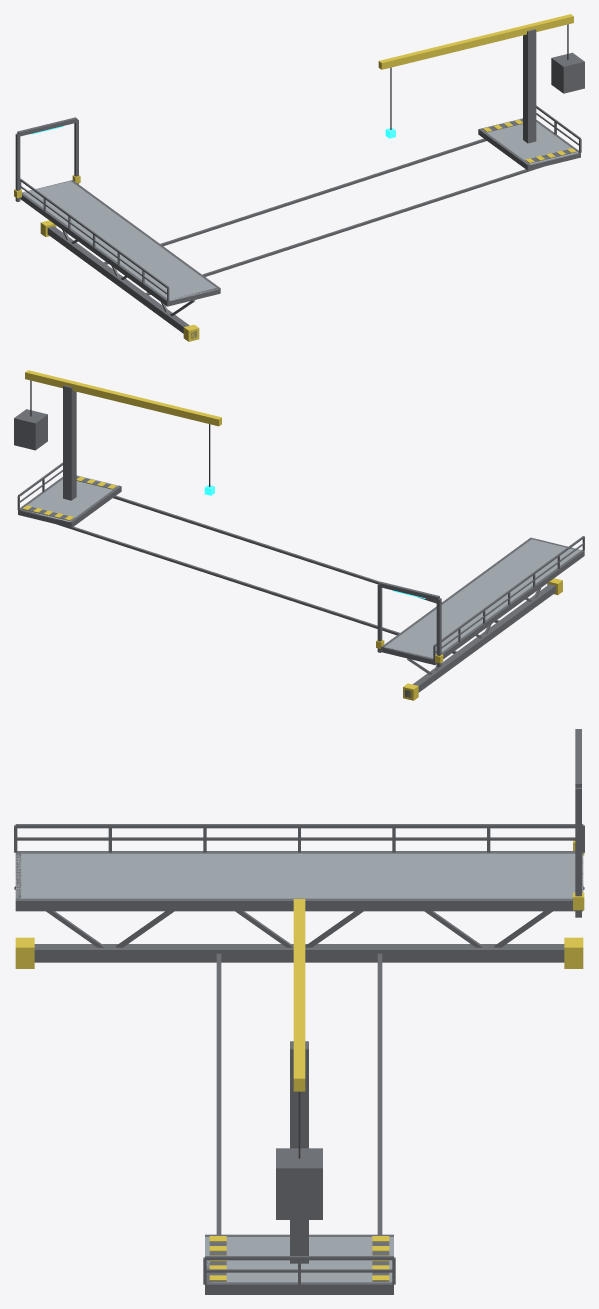
File: diorama_counterweight_crane_g08.glb
3 views of the same model, one above another, from view 1: azimuth 30°, elevation 25°; view 2: azimuth 150°, elevation 25°; view 3: azimuth 270°, elevation 25° (orthographic). The views are drawn at different scales.
Visible parts, largest first — view 1: Deck_a, Boom, Spine, Deck_station, Mast, Hanger_station_1, Hanger_station_0, Frame_a_-1, Dyn_Counterweight, Rail_a_-1, Frame_a_1, Frame_station_-1; view 2: Deck_a, Boom, Spine, Deck_station, Mast, Hanger_station_0, Dyn_Counterweight, Frame_a_-1, Hanger_station_1, Rail_a_-1, Frame_a_1, Frame_station_-1; view 3: Deck_a, Spine, Frame_a_1, Deck_station, Dyn_Counterweight, Rail_a_-1, Boom, Frame_station_1, Mast, MidRail_a_-1, Hanger_station_0, Hanger_station_1 (+4 smaller).
Part boxes in pixels (<box>): Deck_a: <box>22,181,218,301</box>; Boom: <box>378,14,573,69</box>; Spine: <box>47,226,196,338</box>; Deck_station: <box>481,118,578,165</box>; Mast: <box>523,29,536,143</box>; Hanger_station_1: <box>146,167,542,295</box>; Hanger_station_0: <box>104,138,486,264</box>; Frame_a_-1: <box>20,193,169,306</box>; Dyn_Counterweight: <box>551,52,584,93</box>; Rail_a_-1: <box>20,178,168,287</box>; Frame_a_1: <box>71,181,220,293</box>; Frame_station_-1: <box>478,128,530,170</box>; Deck_a: <box>384,539,581,659</box>; Boom: <box>25,370,221,426</box>; Spine: <box>405,584,555,697</box>; Deck_station: <box>20,475,118,522</box>; Mast: <box>63,385,76,500</box>; Hanger_station_0: <box>58,524,456,653</box>; Dyn_Counterweight: <box>14,409,47,450</box>; Frame_a_-1: <box>432,550,583,665</box>; Hanger_station_1: <box>113,495,499,622</box>; Rail_a_-1: <box>433,536,584,646</box>; Frame_a_1: <box>381,537,531,651</box>; Frame_station_-1: <box>69,485,121,527</box>; Deck_a: <box>15,853,583,898</box>; Spine: <box>34,944,564,962</box>; Frame_a_1: <box>15,898,582,911</box>; Deck_station: <box>205,1237,393,1282</box>; Dyn_Counterweight: <box>276,1148,322,1219</box>; Rail_a_-1: <box>15,824,583,828</box>; Boom: <box>293,899,305,1091</box>; Frame_station_1: <box>205,1282,393,1294</box>; Mast: <box>290,1041,308,1263</box>; MidRail_a_-1: <box>17,837,575,840</box>; Hanger_station_0: <box>377,953,382,1234</box>; Hanger_station_1: <box>216,953,221,1234</box>.
Size of the model in its own units: 22.97 by 7.2 by 12.07.
